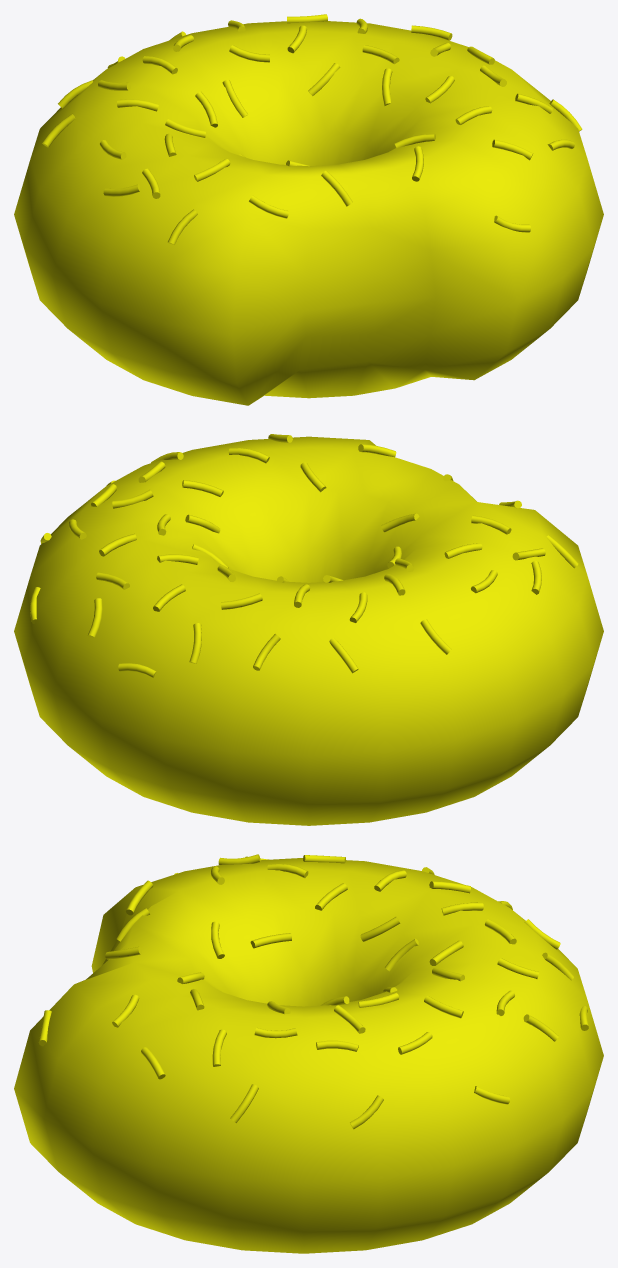
3 views of the same model, one above another, from view 1: azimuth 30°, elevation 25°; view 2: azimuth 150°, elevation 25°; view 3: azimuth 270°, elevation 25° (orthographic).
Parts seen in each view (by area): view 1: Doughnut; view 2: Doughnut; view 3: Doughnut.
Boxes of the visible parts, box(x1,y1,x2,y2) form: Doughnut: box(14, 14, 603, 405); Doughnut: box(14, 434, 603, 825); Doughnut: box(14, 854, 603, 1253).
Size of the model in its own units: 0.1426 by 0.0617 by 0.1402.
1 material, 1 textured.
